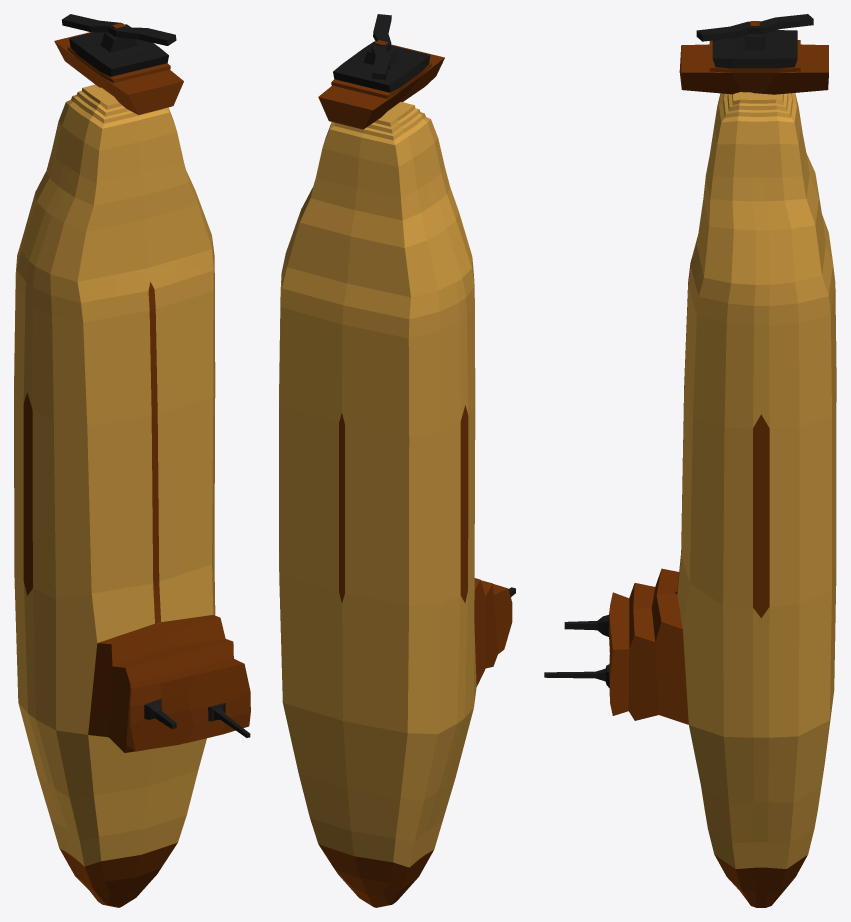
Rendered from Submarine v8.fbx.
3 views of the same model, side by side, from view 1: azimuth 30°, elevation 25°; view 2: azimuth 150°, elevation 25°; view 3: azimuth 270°, elevation 25° (orthographic). The views are drawn at different scales.
Parts seen in each view (by area): view 1: Motor; view 2: Motor; view 3: Motor.
Part boxes in pixels (x1,y1,x2,y2): Motor: (14,14,250,907); Motor: (279,14,515,907); Motor: (544,14,836,907).
Size of the model in its own units: 379 by 79.71 by 113.
